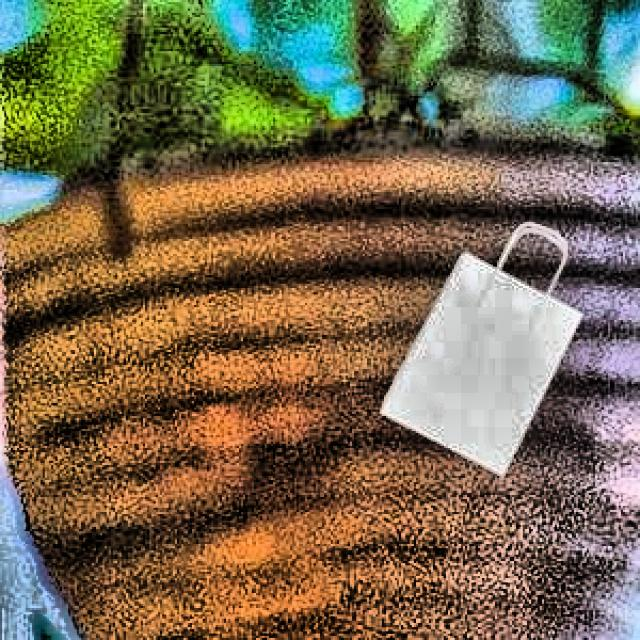Paper-bag: (374, 209, 588, 492)
